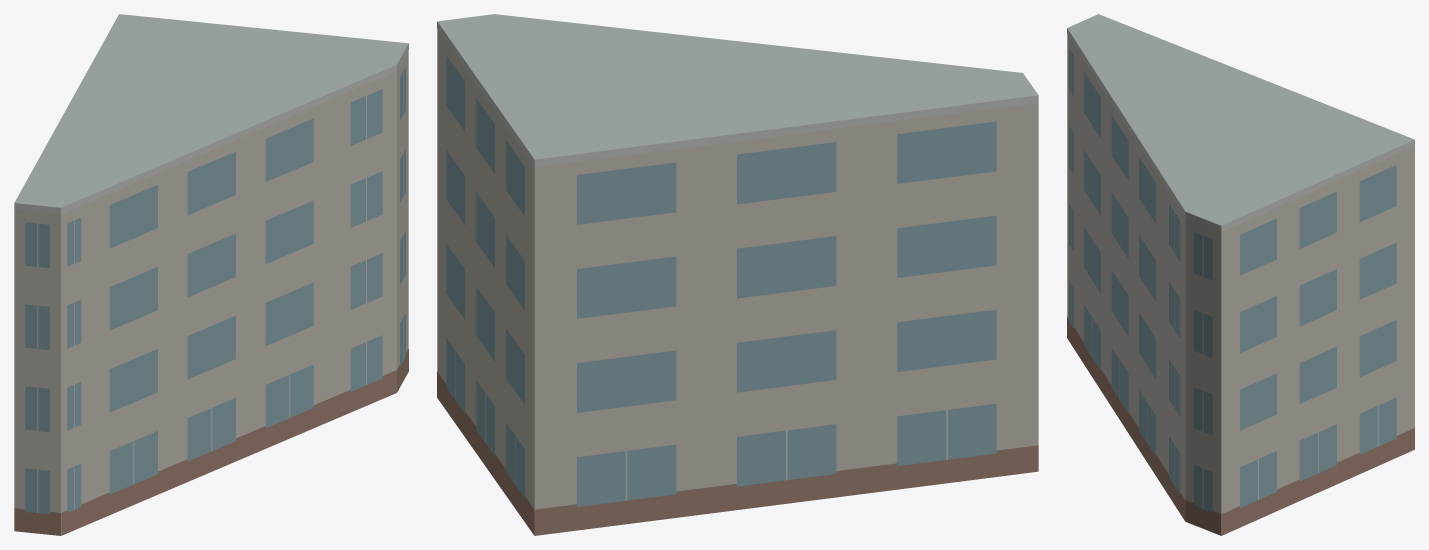
Rendered from survey-upis-32624552.glb.
3 renders of one model, left to right at view 1: azimuth 30°, elevation 25°; view 2: azimuth 150°, elevation 25°; view 3: azimuth 270°, elevation 25°, orthographic. The views are drawn at different scales.
Parts seen in each view (by area): view 1: survey-upis-32624552.tmp; view 2: survey-upis-32624552.tmp; view 3: survey-upis-32624552.tmp.
Boxes of the visible parts, left/top/right/bottom form: survey-upis-32624552.tmp: left=14, top=14, right=408, bottom=535; survey-upis-32624552.tmp: left=437, top=14, right=1038, bottom=535; survey-upis-32624552.tmp: left=1067, top=14, right=1414, bottom=535.
Bounding box in the file's own units: 17.45 × 11.9 × 12.1.
